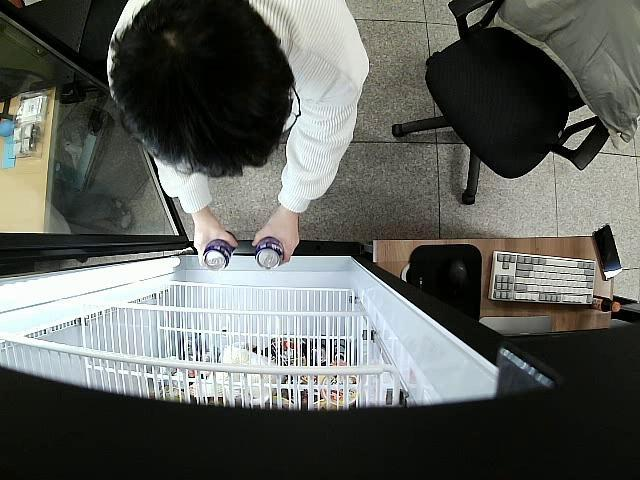14_welchsGrape: (251, 238, 286, 275), (203, 238, 234, 272)
